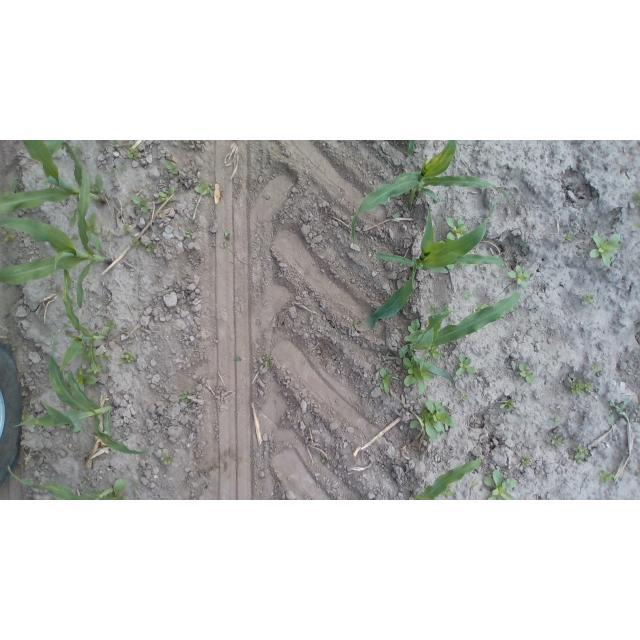Maize: (353, 204, 507, 337), (10, 330, 154, 461), (1, 169, 112, 309), (350, 147, 508, 245), (394, 290, 522, 386), (0, 139, 108, 212), (60, 270, 123, 370), (7, 467, 136, 500), (402, 453, 482, 500)
Weeds: (409, 404, 458, 445), (399, 357, 434, 394), (589, 231, 619, 272), (483, 469, 520, 500), (443, 217, 473, 247), (65, 366, 100, 390), (194, 184, 222, 204), (455, 354, 477, 379), (377, 367, 394, 399), (508, 266, 533, 287), (85, 210, 103, 236), (154, 186, 179, 204), (517, 362, 539, 382), (570, 380, 597, 395), (572, 443, 589, 466), (595, 468, 613, 489), (132, 194, 148, 217), (499, 395, 517, 413), (264, 354, 279, 374), (608, 381, 626, 397), (550, 429, 563, 451), (98, 350, 115, 366), (582, 293, 598, 308), (165, 163, 179, 177), (123, 351, 136, 366), (562, 231, 575, 246), (427, 301, 439, 315), (179, 390, 191, 404), (130, 234, 142, 247), (519, 459, 533, 470), (128, 150, 141, 161), (185, 228, 196, 241), (160, 456, 171, 468), (633, 191, 640, 209), (463, 293, 474, 304), (145, 242, 157, 252), (224, 231, 231, 242), (220, 242, 229, 250)
